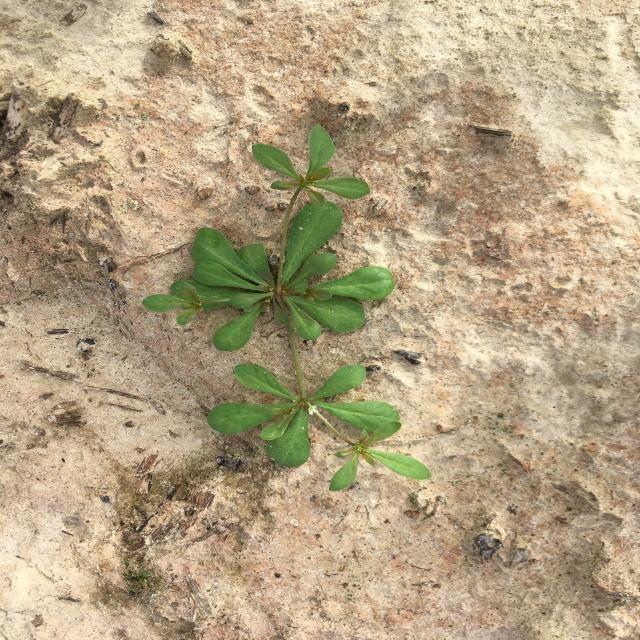Carpetweed: (142, 124, 432, 492)
